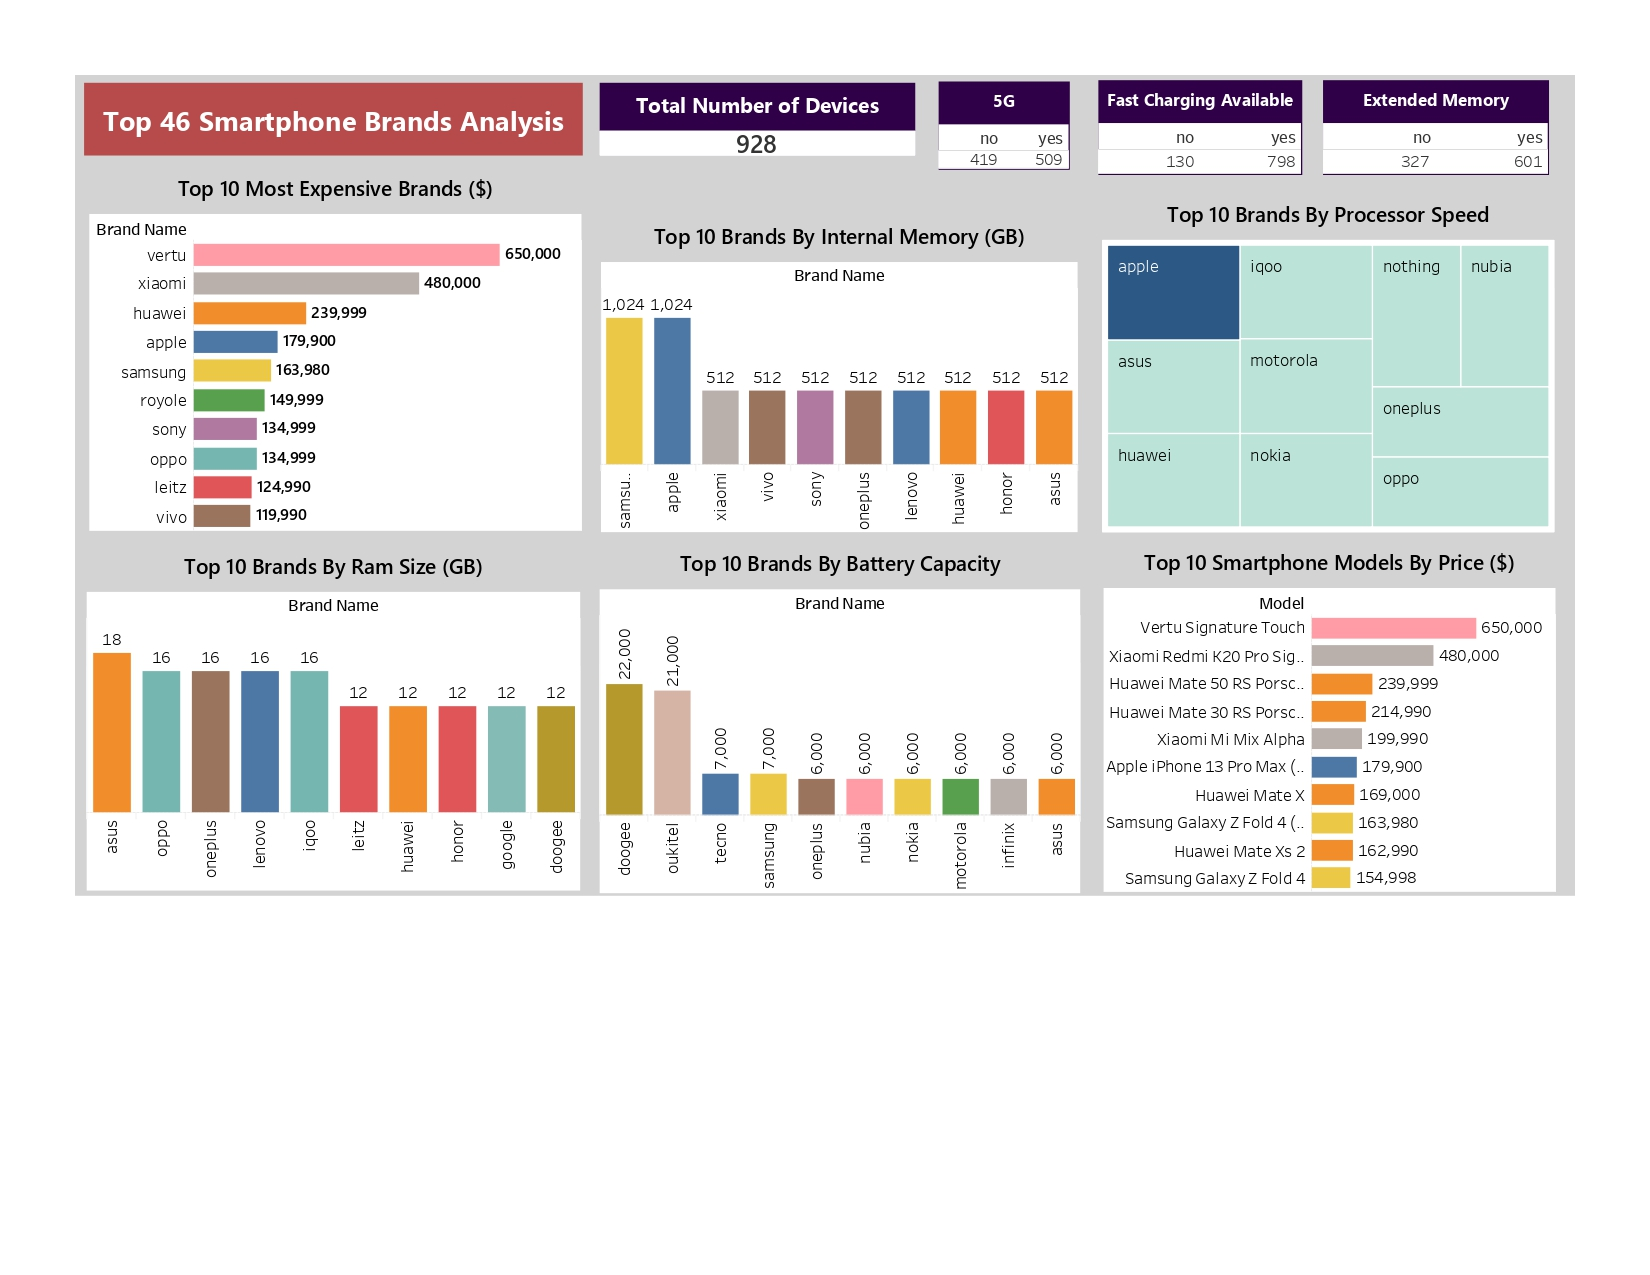

Layout of this report page (visuals, bound fields, positions):
{"tool":"tableau","page":{"name":"Dashboard 1","canvas":[1000,1000],"units":"permille","ordinal":0},"visuals":[{"type":"worksheet","title":"Fast Charging Available","mark":"Automatic","cols":["fast_charging_available"],"box":[682.2,6.3,135.9,115.5]},{"type":"worksheet","title":"Extended Memory","mark":"Automatic","cols":["extended_memory_available"],"box":[832,6.3,150.7,115.5]},{"type":"worksheet","title":"5G","mark":"Automatic","cols":["5G_or_not"],"box":[575.8,7.9,87.5,107.6]},{"type":"text","box":[6.1,9.5,332.5,88.6]},{"type":"worksheet","title":"Total Number of Devices","mark":"Automatic","box":[349.8,9.5,210.4,88.6]},{"type":"worksheet","title":"Top 10 Most Expensive Brands ($)","mark":"Automatic","rows":["brand_name"],"cols":["price"],"box":[9.5,110.8,328.1,444.6]},{"type":"worksheet","title":"Top 10 Brands By Processor Speed","mark":"Automatic","box":[684.9,142.4,301.3,414.6]},{"type":"worksheet","title":"Top 10 Brands By Internal Memory","mark":"Automatic","rows":["internal_memory"],"cols":["brand_name"],"box":[350.7,169.3,317.8,387.7]},{"type":"worksheet","title":"Top 10 Smartphone Models By Price ($)","mark":"Automatic","rows":["model"],"cols":["price"],"box":[685.7,566.5,301.3,428.8]},{"type":"worksheet","title":"Top 10 Brands By Battery Capacity","mark":"Automatic","rows":["battery_capacity"],"cols":["brand_name"],"box":[349.8,568,320.4,428.8]},{"type":"worksheet","title":"Top 10 Brands By Ram","mark":"Automatic","rows":["ram_capacity"],"cols":["brand_name"],"box":[7.8,571.2,329,422.5]}]}

Visuals, with their boxes on the dashboard's canvas, which has no fixed pixel size, in thousandths of its width and height (x1, y1, x2, y2). These are canvas units, not pixel positions in the 1650x1275 screenshot, which may show the page scaled, cropped or inside an application window:
"Fast Charging Available" worksheet: box=[682, 6, 818, 122]
"Extended Memory" worksheet: box=[832, 6, 983, 122]
"5G" worksheet: box=[576, 8, 663, 116]
text: box=[6, 10, 339, 98]
"Total Number of Devices" worksheet: box=[350, 10, 560, 98]
"Top 10 Most Expensive Brands ($)" worksheet: box=[10, 111, 338, 555]
"Top 10 Brands By Processor Speed" worksheet: box=[685, 142, 986, 557]
"Top 10 Brands By Internal Memory" worksheet: box=[351, 169, 668, 557]
"Top 10 Smartphone Models By Price ($)" worksheet: box=[686, 566, 987, 995]
"Top 10 Brands By Battery Capacity" worksheet: box=[350, 568, 670, 997]
"Top 10 Brands By Ram" worksheet: box=[8, 571, 337, 994]
